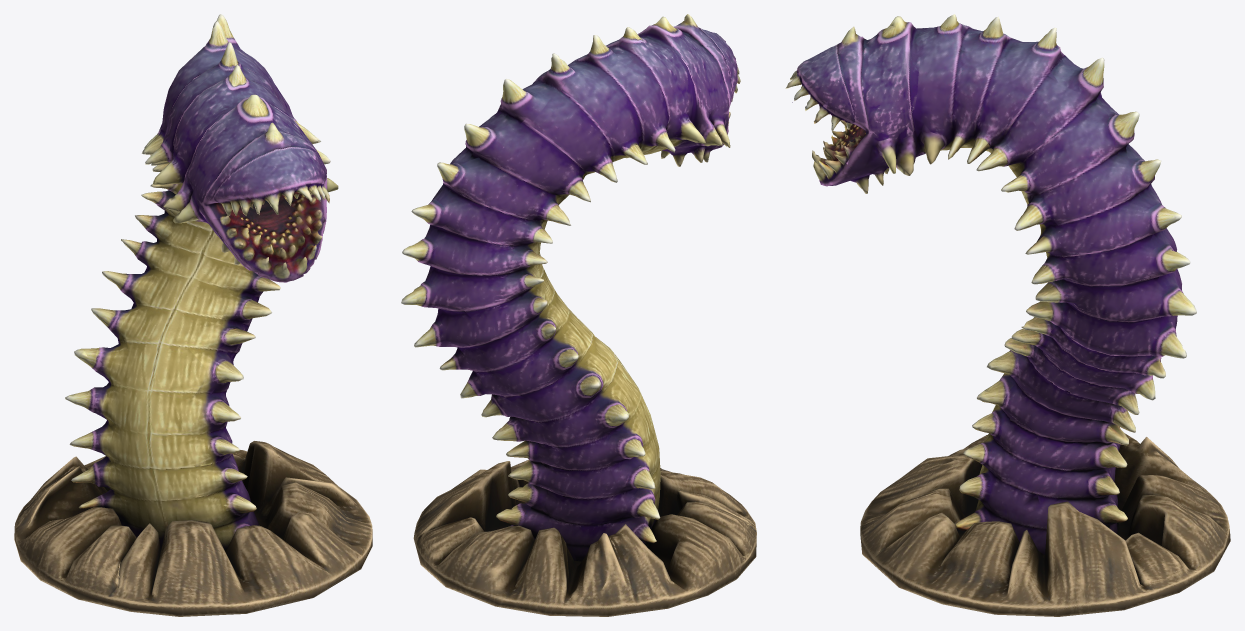
Rendered from MZ4250 - Purple Worm.glb.
3 views of the same model, side by side, from view 1: azimuth 30°, elevation 25°; view 2: azimuth 150°, elevation 25°; view 3: azimuth 270°, elevation 25° (orthographic). The views are drawn at different scales.
Visible parts, largest first — view 1: worm_high.002, base_high.002; view 2: worm_high.002, base_high.002; view 3: worm_high.002, base_high.002.
Part boxes in pixels (box(x1,y1,x2,y2)): worm_high.002: box(65, 14, 338, 550); base_high.002: box(14, 441, 372, 616); worm_high.002: box(401, 14, 740, 561); base_high.002: box(413, 459, 756, 616); worm_high.002: box(785, 14, 1196, 554); base_high.002: box(860, 433, 1230, 616).
Size of the model in its own units: 1.41 by 2.23 by 1.7.
Materials: 1 (1 with a texture image).
